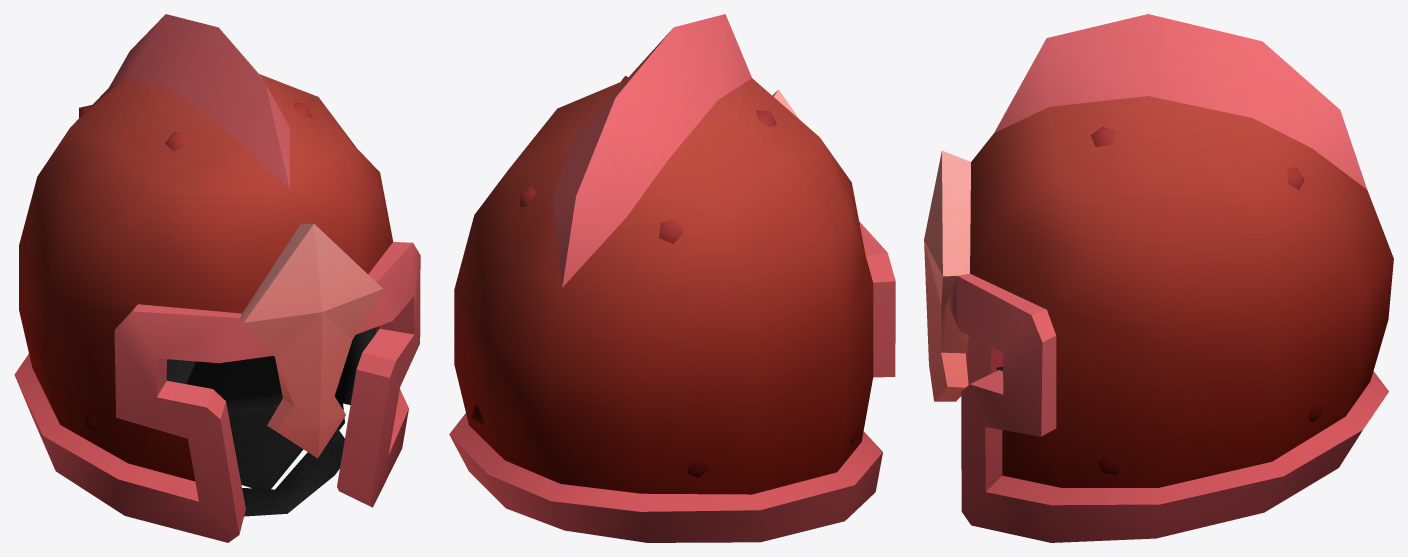
The model's file is Helmet_Red05.fbx.
The picture shows the model from 3 angles, left to right: view 1: azimuth 30°, elevation 25°; view 2: azimuth 150°, elevation 25°; view 3: azimuth 270°, elevation 25°; orthographic projection. The views are drawn at different scales.
Visible parts, largest first — view 1: Helmet_01_M_Red; view 2: Helmet_01_M_Red; view 3: Helmet_01_M_Red.
Boxes of the visible parts, x1,y1,x2,y2 form: Helmet_01_M_Red: (14,14,420,542); Helmet_01_M_Red: (449,14,895,542); Helmet_01_M_Red: (924,14,1393,542).
Bounding box in the file's own units: 831 × 1027 × 920.
